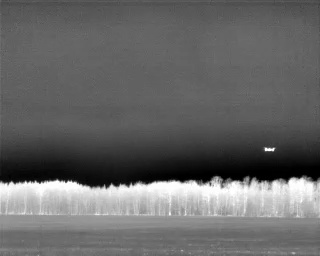DRONE: (259, 141, 280, 158)
